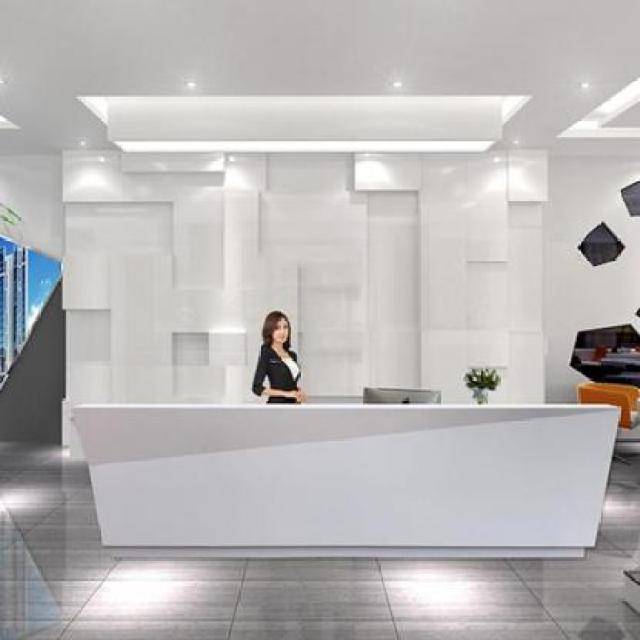frontdesk: (64, 386, 624, 565)
